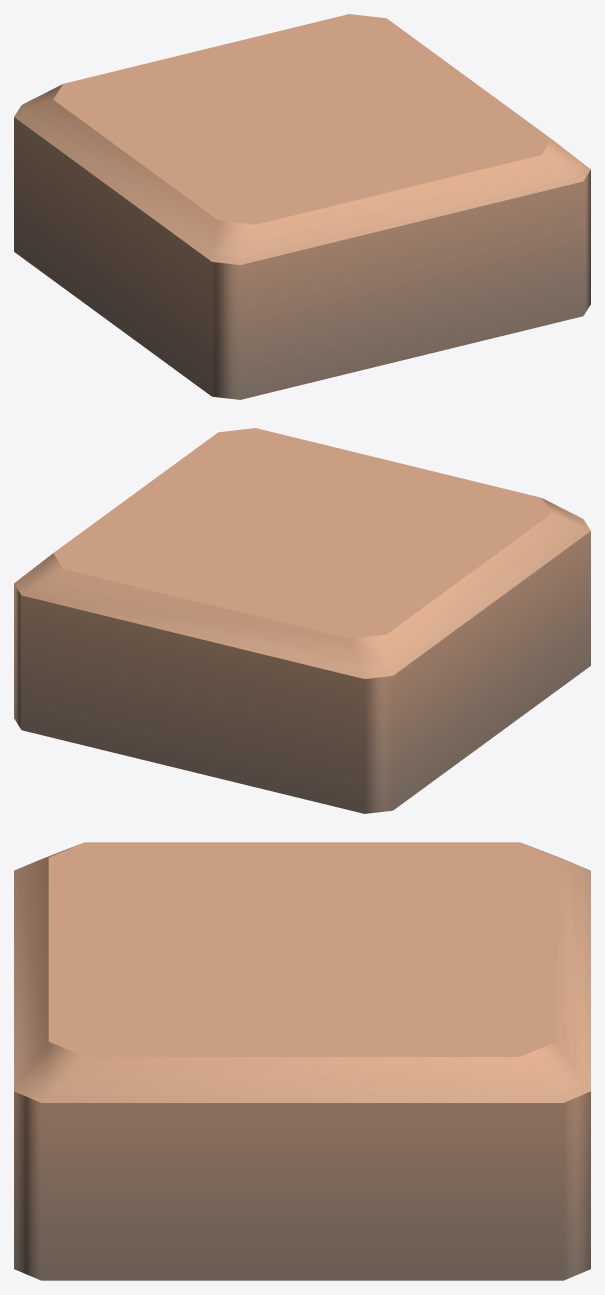
File: SM_Phone_Key.fbx
3 views of the same model, one above another, from view 1: azimuth 30°, elevation 25°; view 2: azimuth 150°, elevation 25°; view 3: azimuth 270°, elevation 25° (orthographic). The views are drawn at different scales.
Parts seen in each view (by area): view 1: Phone_Keys; view 2: Phone_Keys; view 3: Phone_Keys.
Boxes of the visible parts, <box> form: Phone_Keys: <box>14,14,590,399</box>; Phone_Keys: <box>14,428,590,813</box>; Phone_Keys: <box>14,842,590,1280</box>.
Size of the model in its own units: 50 by 20 by 50.
